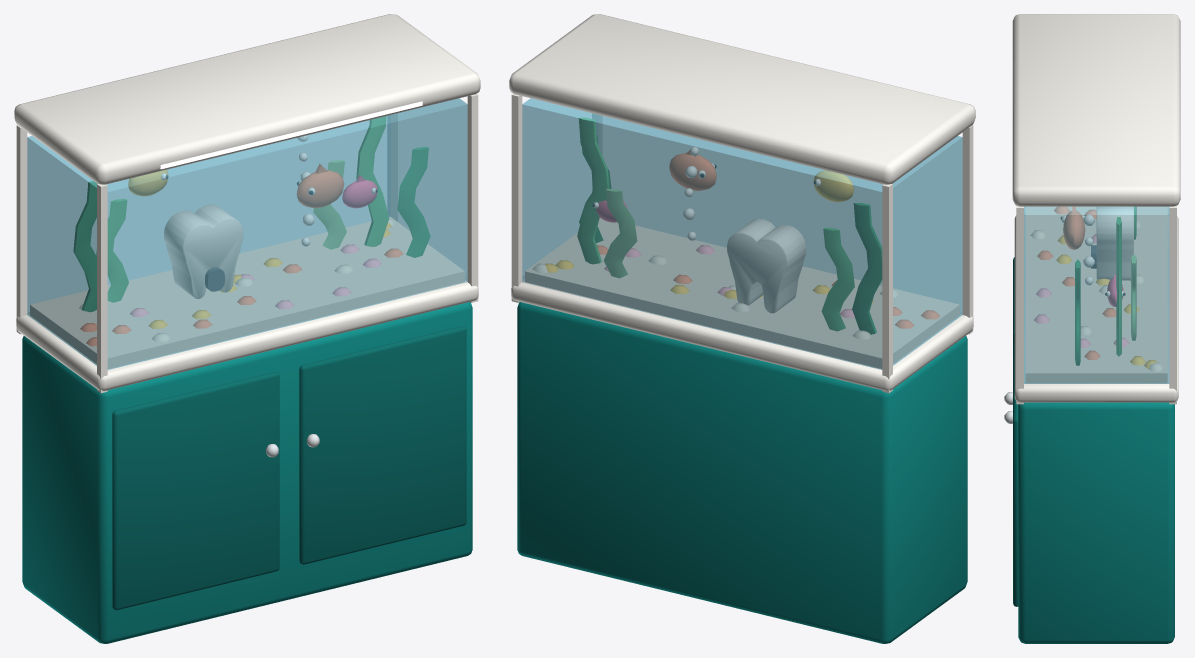
The model's file is fish_tank.glb.
3 renders of one model, left to right at view 1: azimuth 30°, elevation 25°; view 2: azimuth 150°, elevation 25°; view 3: azimuth 270°, elevation 25°, orthographic. The views are drawn at different scales.
Visible parts, largest first — view 1: FishTank, Fish1, Fish3, Fish2; view 2: FishTank, Fish1, Fish2; view 3: FishTank, Fish1, Fish3.
Boxes of the visible parts, x1,y1,x2,y2 form: FishTank: (14, 14, 480, 643); Fish1: (296, 164, 344, 208); Fish3: (342, 175, 377, 208); Fish2: (128, 169, 168, 196); FishTank: (509, 14, 975, 643); Fish1: (669, 146, 716, 190); Fish2: (813, 170, 853, 202); FishTank: (1004, 14, 1180, 643); Fish1: (1060, 206, 1085, 249); Fish3: (1105, 274, 1125, 306).
Size of the model in its own units: 1.13 by 1.36 by 0.4721.
